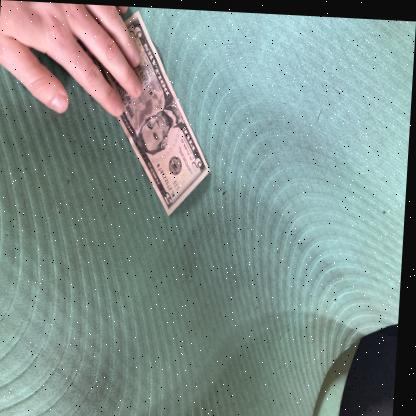five-front: (85, 9, 212, 214)
